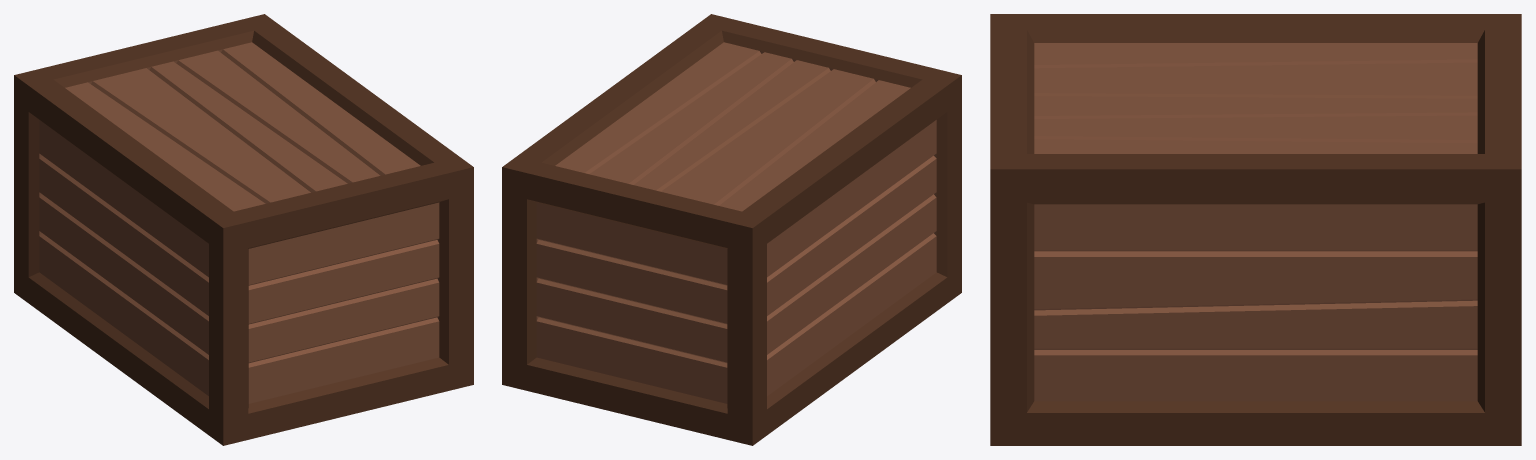
Rendered from LPWarPack_StorageCrate1.fbx.
The picture shows the model from 3 angles, left to right: view 1: azimuth 30°, elevation 25°; view 2: azimuth 150°, elevation 25°; view 3: azimuth 270°, elevation 25°; orthographic projection. The views are drawn at different scales.
Parts seen in each view (by area): view 1: StorageCrate1; view 2: StorageCrate1; view 3: StorageCrate1.
Part boxes in pixels (box(x1,y1,x2,y2)): StorageCrate1: box(14, 14, 473, 445); StorageCrate1: box(502, 14, 961, 445); StorageCrate1: box(990, 14, 1521, 445).
Size of the model in its own units: 84.48 by 70.17 by 122.
